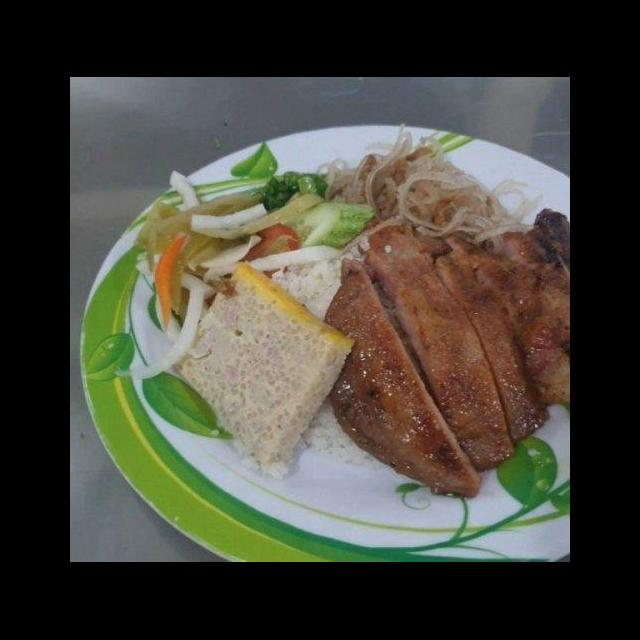bi: (311, 120, 547, 260)
cha: (166, 260, 358, 484)
com: (265, 248, 356, 328), (295, 397, 388, 472)
com suon bi cha: (84, 116, 570, 562)
dua chua: (132, 167, 350, 336)
suon: (314, 206, 570, 504)
